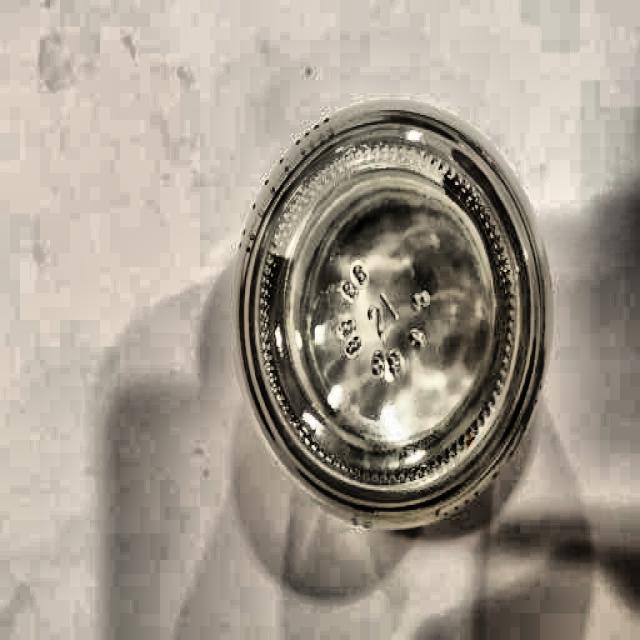glass: (236, 98, 556, 548)
